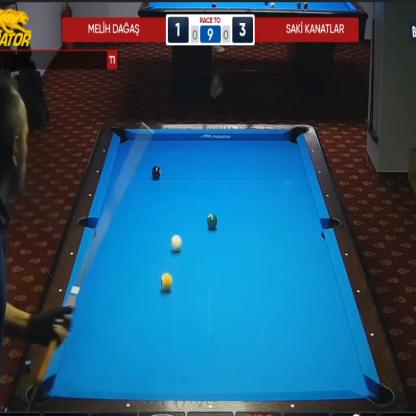Ball: (170, 234, 182, 253), (160, 272, 172, 291), (207, 212, 217, 230), (152, 165, 160, 180)
